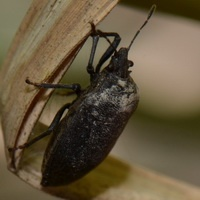insect: (0, 0, 154, 187), (52, 36, 92, 90), (38, 87, 77, 130)
